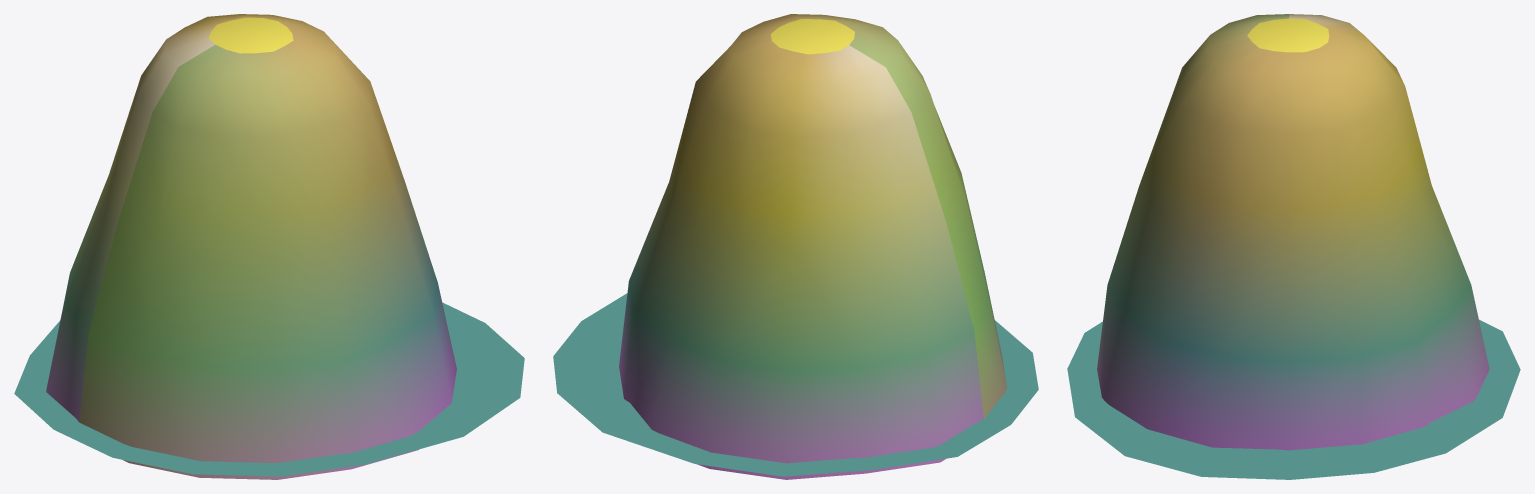
The model's file is MountainA.glb.
The picture shows the model from 3 angles, left to right: view 1: azimuth 30°, elevation 25°; view 2: azimuth 150°, elevation 25°; view 3: azimuth 270°, elevation 25°; orthographic projection. The views are drawn at different scales.
Parts seen in each view (by area): view 1: MountainA; view 2: MountainA; view 3: MountainA.
Boxes of the visible parts, x1,y1,x2,y2 form: MountainA: [14, 14, 524, 479]; MountainA: [553, 14, 1038, 479]; MountainA: [1067, 14, 1520, 479].
Size of the model in its own units: 2.59 by 2.06 by 2.42.
1 material, 1 textured.
